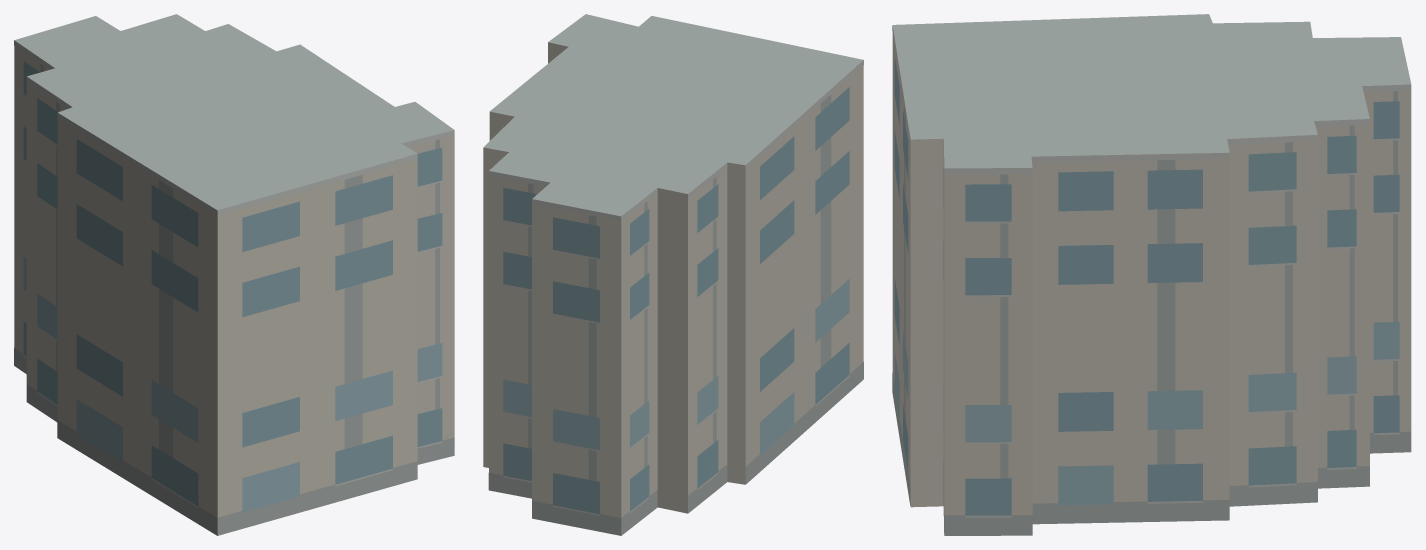
Rendered from survey-upis-32616416.glb.
The picture shows the model from 3 angles, left to right: view 1: azimuth 30°, elevation 25°; view 2: azimuth 150°, elevation 25°; view 3: azimuth 270°, elevation 25°; orthographic projection. The views are drawn at different scales.
Parts seen in each view (by area): view 1: survey-upis-32616416.tmp; view 2: survey-upis-32616416.tmp; view 3: survey-upis-32616416.tmp.
Part boxes in pixels (x1,y1,x2,y2): survey-upis-32616416.tmp: (14,14,454,535); survey-upis-32616416.tmp: (483,14,863,535); survey-upis-32616416.tmp: (892,14,1411,535).
Bounding box in the file's own units: 13.24 × 14.7 × 18.81.
